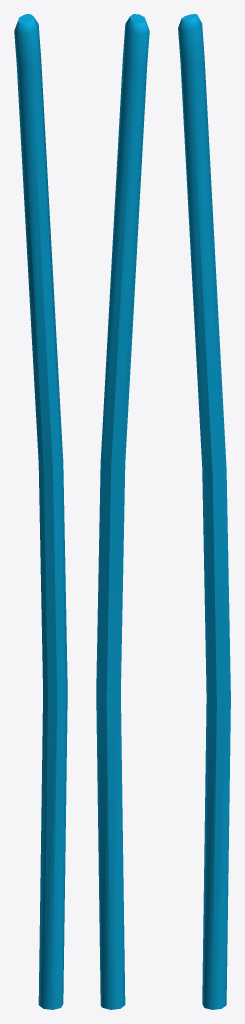
The model's file is Fence_Warehouse_Break_01.fbx.
3 views of the same model, side by side, from view 1: azimuth 30°, elevation 25°; view 2: azimuth 150°, elevation 25°; view 3: azimuth 330°, elevation 25° (orthographic).
Visible parts, largest first — view 1: Fence_Warehouse_Break_01; view 2: Fence_Warehouse_Break_01; view 3: Fence_Warehouse_Break_01.
Boxes of the visible parts, x1,y1,x2,y2 form: Fence_Warehouse_Break_01: (14, 14, 67, 1009); Fence_Warehouse_Break_01: (96, 14, 149, 1009); Fence_Warehouse_Break_01: (178, 14, 230, 1009).
Size of the model in its own units: 16.99 by 332 by 7.2.
